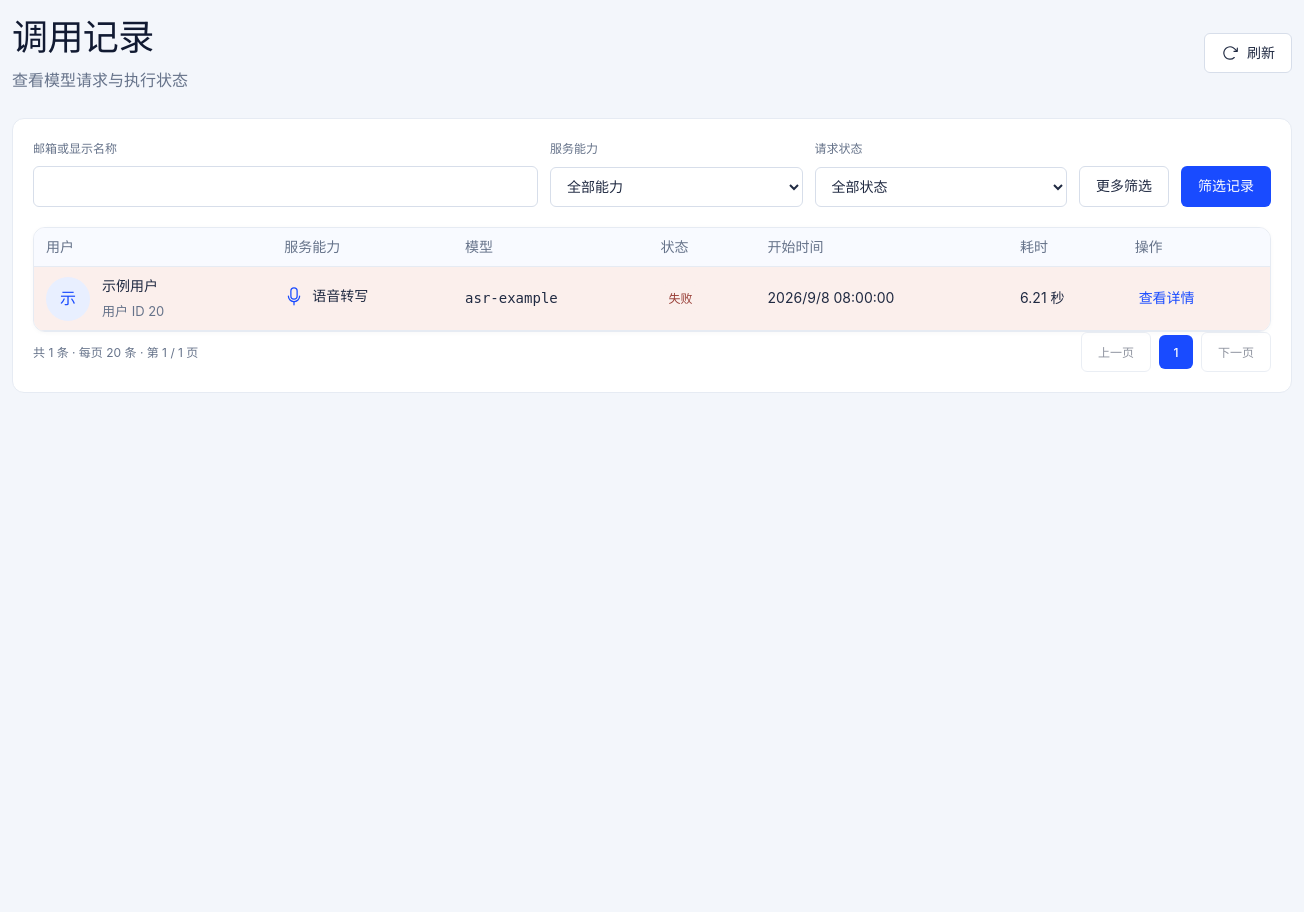
Test case: opens request details and computes elapsed time only from valid completed timestamps
Click the button "查看详情": (1167, 298) [1135, 283, 1199, 314]
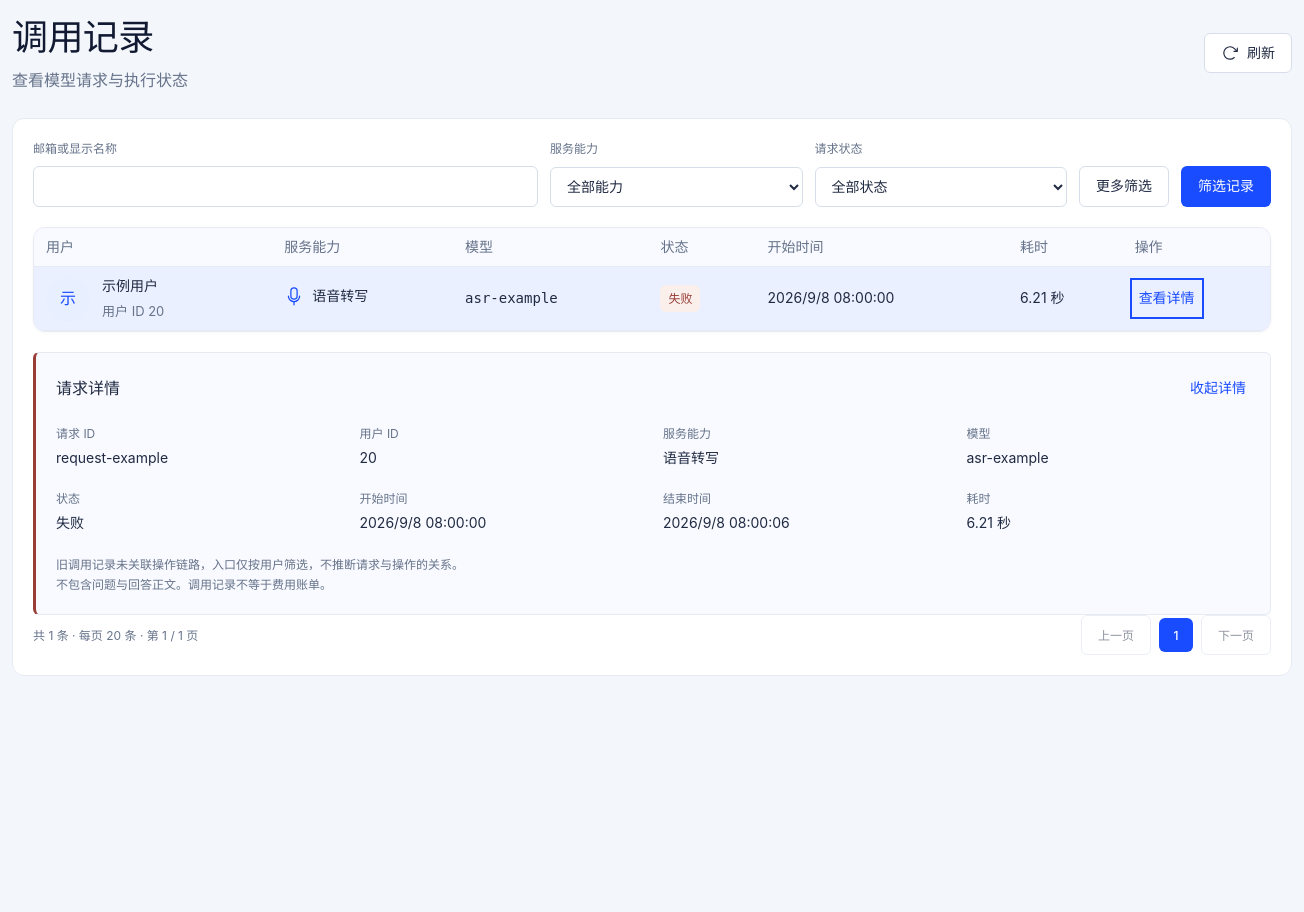
Expected: the text "6.21 秒" is shown 2 times, [1008, 267, 1123, 331]; [966, 514, 1011, 531]
Expected: the element "请求详情" is shown, [33, 352, 1271, 615]
Expected: the text "request-example" is shown, [56, 449, 168, 466]
Click the button "收起详情": (1218, 388) [1186, 373, 1250, 404]
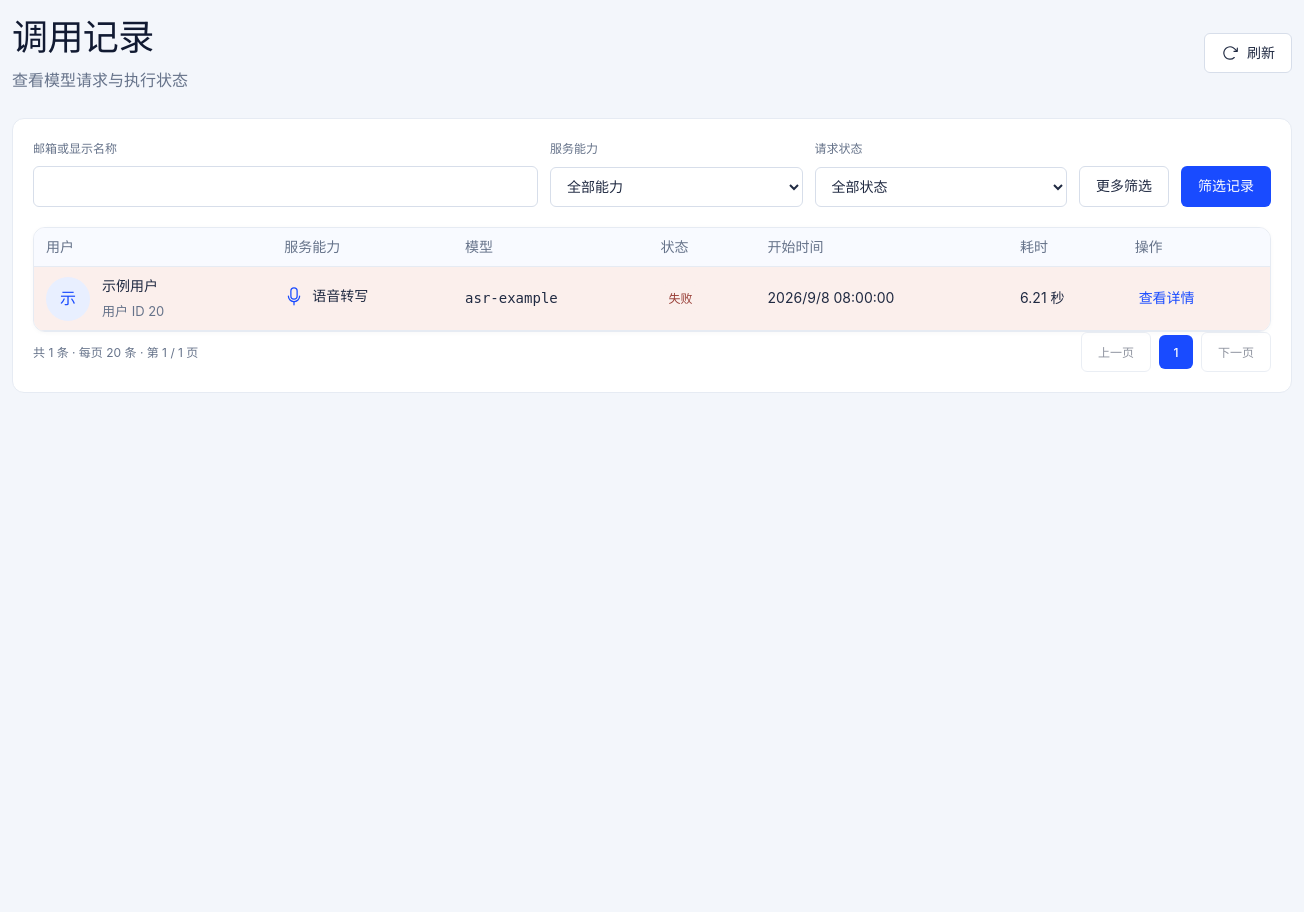
Expected: the heading "请求详情" is gone
